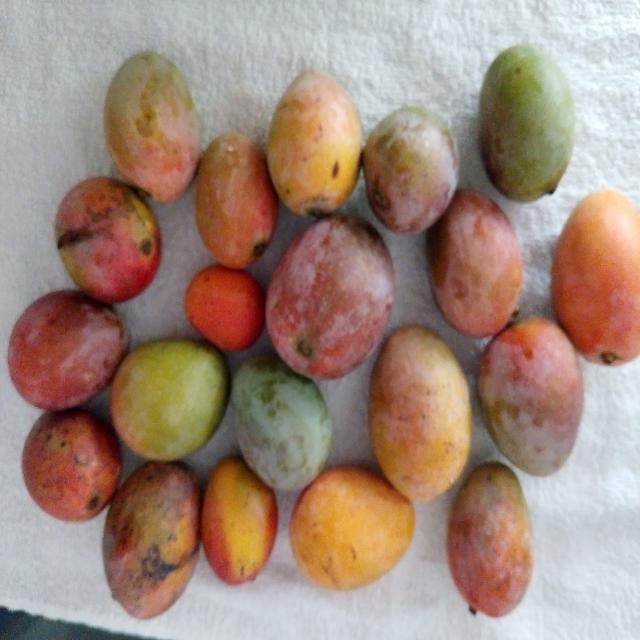mango: (267, 216, 396, 380), (368, 324, 472, 500), (476, 314, 586, 480), (478, 36, 576, 205), (289, 467, 420, 591), (103, 456, 203, 618), (552, 184, 640, 368), (265, 66, 367, 224), (104, 50, 205, 202), (8, 287, 126, 413), (428, 189, 525, 339), (114, 339, 234, 459), (448, 458, 534, 620), (54, 172, 162, 299), (234, 357, 334, 491), (361, 102, 457, 235), (196, 131, 282, 269), (200, 451, 280, 585)
